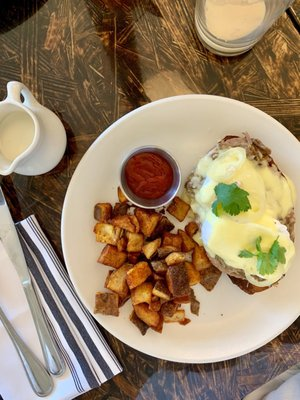burger: (10, 206, 124, 386)
pizza: (0, 80, 68, 179), (193, 0, 294, 56)
soup: (189, 132, 298, 295)
sushi: (59, 93, 300, 398), (117, 145, 181, 212)
